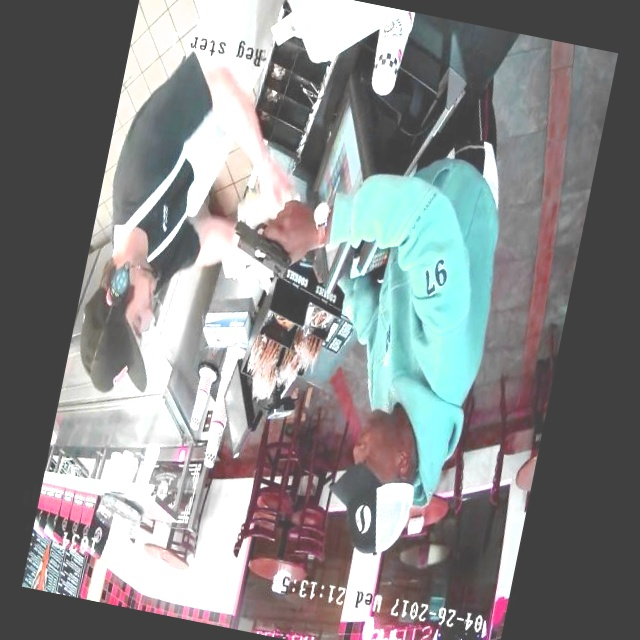gun: (213, 206, 313, 310)
